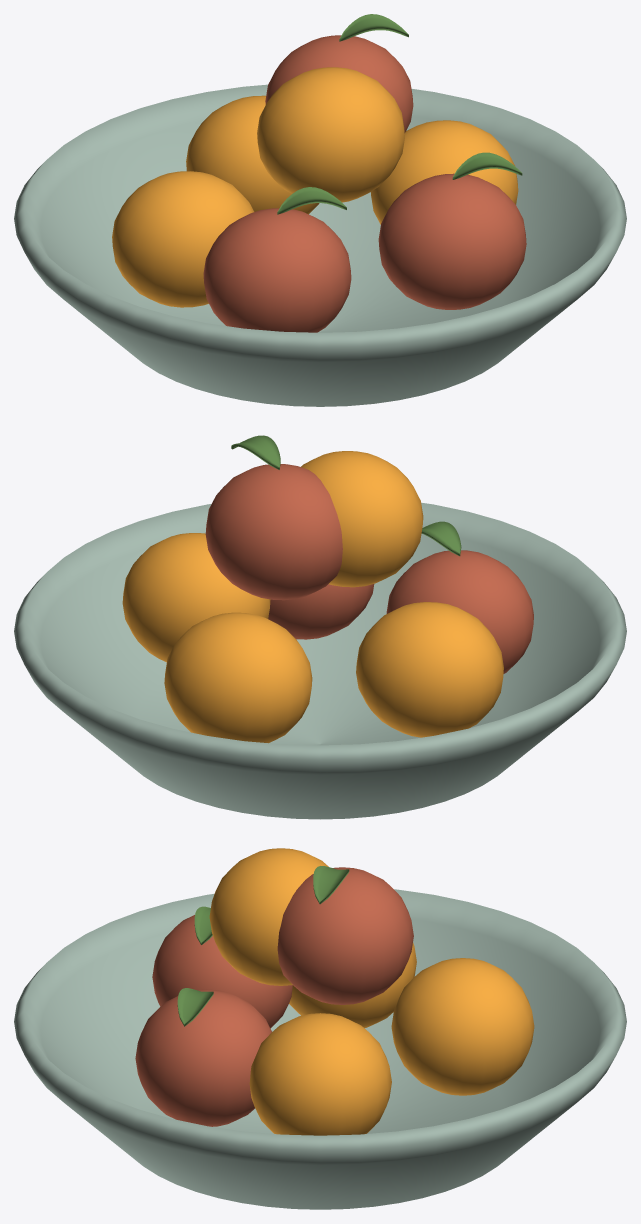
The model's file is fruit_bowl.glb.
3 renders of one model, top to bottom at view 1: azimuth 30°, elevation 25°; view 2: azimuth 150°, elevation 25°; view 3: azimuth 270°, elevation 25°, orthographic.
Visible parts, largest first — view 1: fruit_bowl__body, fruit_bowl__oranges, fruit_bowl__apples, fruit_bowl__leaves; view 2: fruit_bowl__body, fruit_bowl__oranges, fruit_bowl__apples, fruit_bowl__leaves; view 3: fruit_bowl__body, fruit_bowl__oranges, fruit_bowl__apples, fruit_bowl__leaves.
Part boxes in pixels (x1,y1,x2,y2): fruit_bowl__body: (14, 84, 626, 406); fruit_bowl__oranges: (112, 67, 518, 307); fruit_bowl__apples: (203, 35, 526, 332); fruit_bowl__leaves: (277, 14, 522, 214); fruit_bowl__body: (14, 502, 626, 819); fruit_bowl__oranges: (122, 451, 503, 743); fruit_bowl__apples: (205, 464, 533, 673); fruit_bowl__leaves: (231, 435, 461, 556); fruit_bowl__body: (14, 889, 626, 1209); fruit_bowl__oranges: (209, 848, 534, 1135); fruit_bowl__apples: (135, 867, 413, 1126); fruit_bowl__leaves: (177, 866, 349, 1026).
Size of the model in its own units: 0.3 by 0.172 by 0.3.
